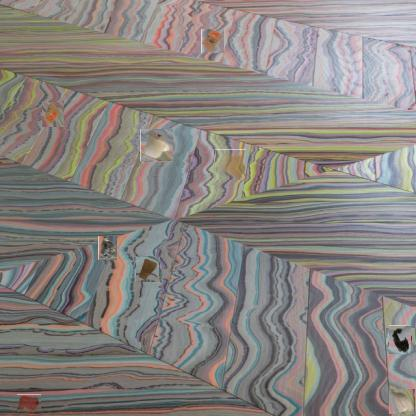dirty: (141, 129, 173, 162), (389, 390, 415, 416), (388, 327, 413, 352), (134, 257, 160, 281), (42, 101, 64, 127), (201, 29, 224, 53), (98, 236, 117, 260)
liquid: (214, 149, 246, 180), (17, 394, 41, 413)
